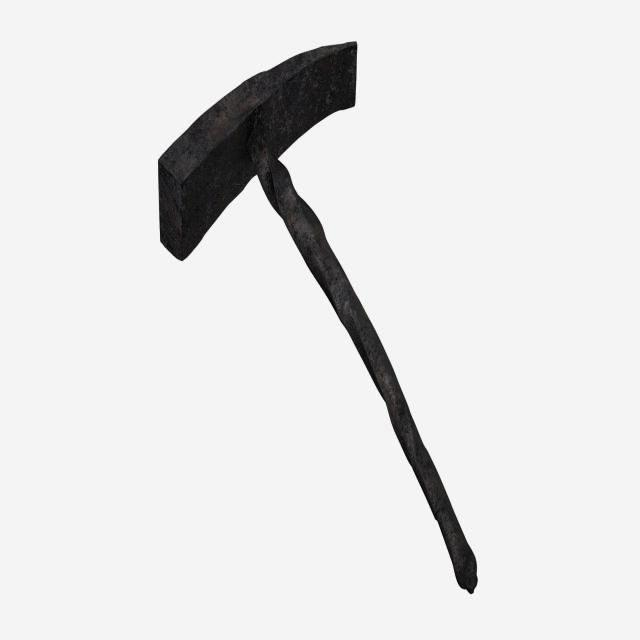hammer: (150, 31, 486, 614)
